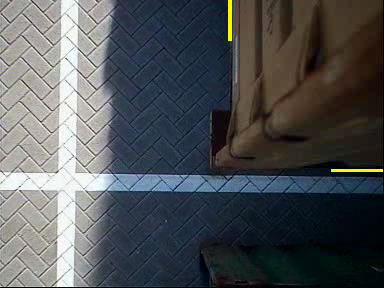groundmarker_2: (111, 31, 167, 78), (110, 152, 166, 198)
